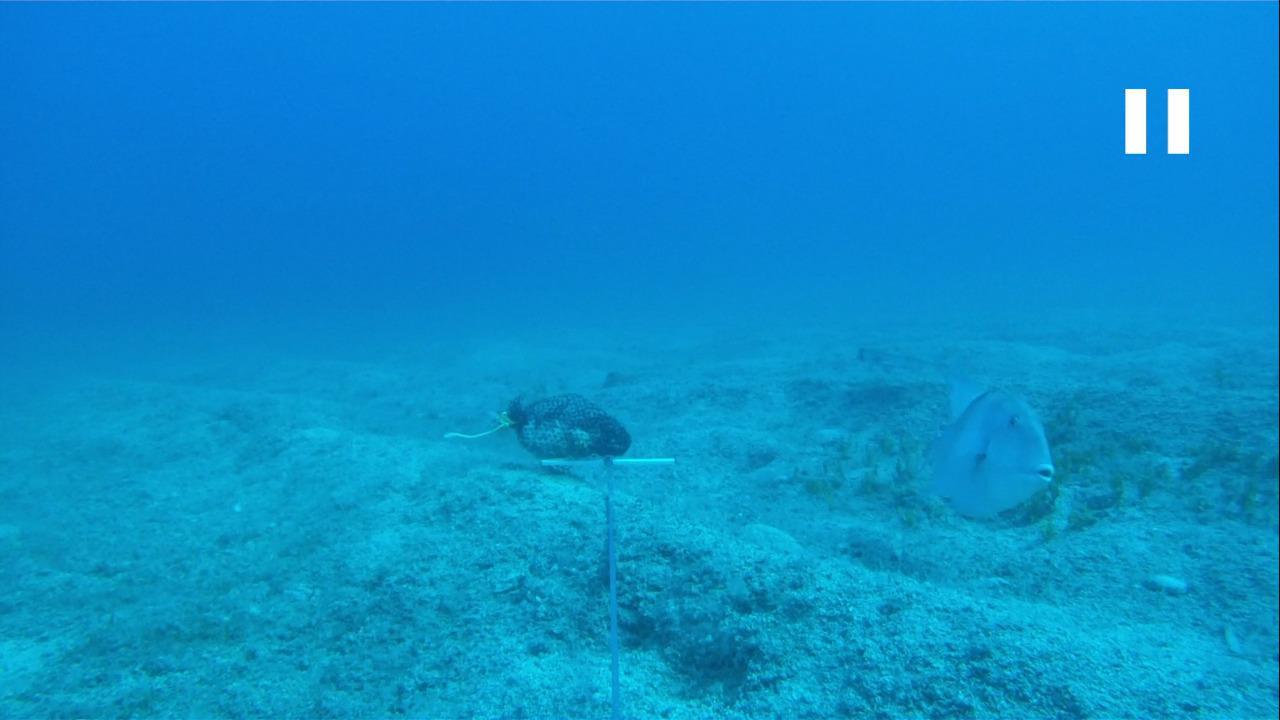balistes: (882, 373, 1057, 526)
dactylopterus: (842, 331, 1062, 386)
